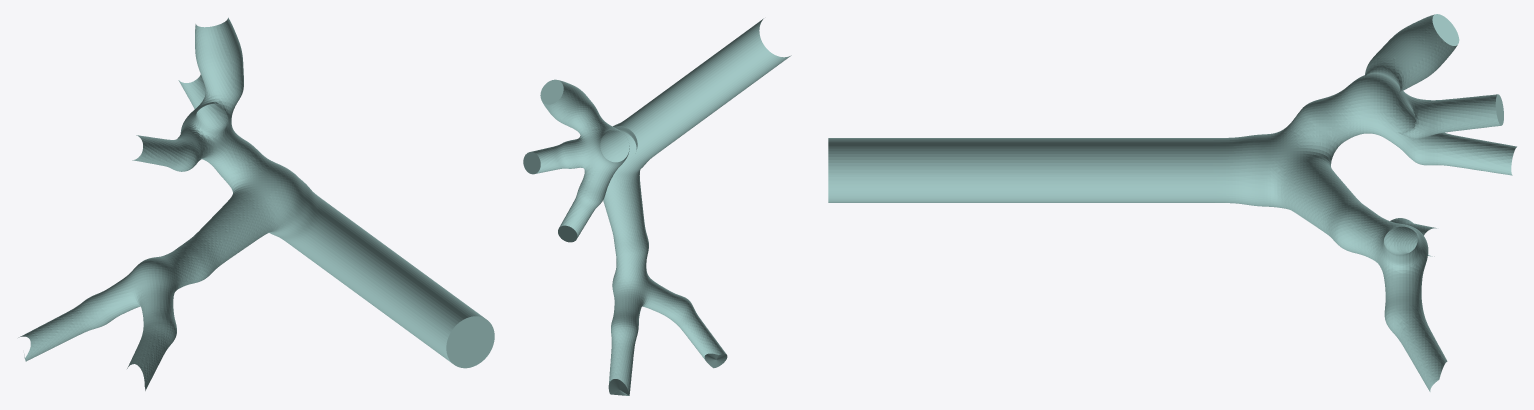
File: airway_dilation.glb
3 views of the same model, side by side, from view 1: azimuth 30°, elevation 25°; view 2: azimuth 150°, elevation 25°; view 3: azimuth 270°, elevation 25° (orthographic). The views are drawn at different scales.
Visible parts, largest first — view 1: airway_closed_validation_dilation.stl; view 2: airway_closed_validation_dilation.stl; view 3: airway_closed_validation_dilation.stl.
Boxes of the visible parts, box(x1,y1,x2,y2) form: airway_closed_validation_dilation.stl: box(18, 17, 494, 390); airway_closed_validation_dilation.stl: box(523, 18, 791, 395); airway_closed_validation_dilation.stl: box(828, 14, 1516, 391).
Size of the model in its own units: 0.0828 by 0.1285 by 0.1918.
